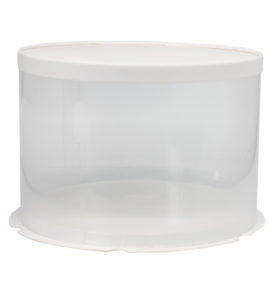PlasticBox: (5, 39, 268, 254)
